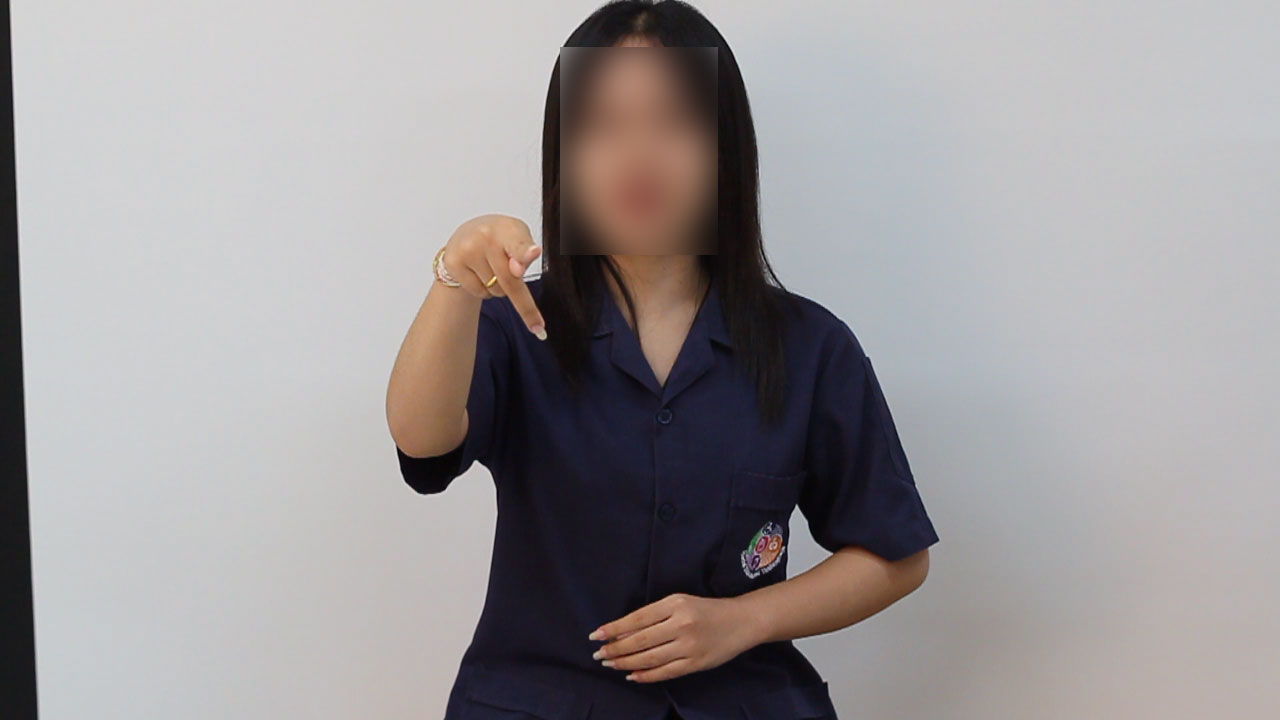por: (427, 194, 558, 359)
